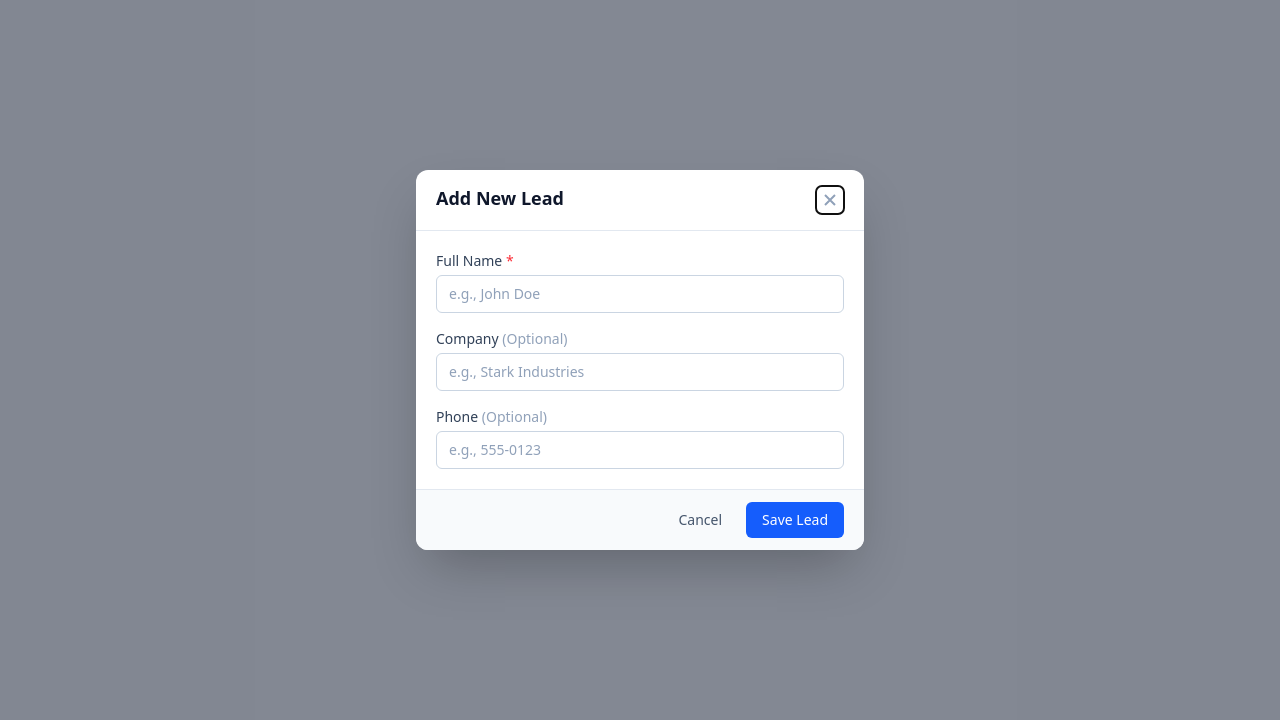
Scenario: AddLeadDialog › keeps the form and shows the server message when saving fails
Type "Ada" into the field with placeholder "e.g., John Doe" at (640, 294), box [436, 275, 844, 313]
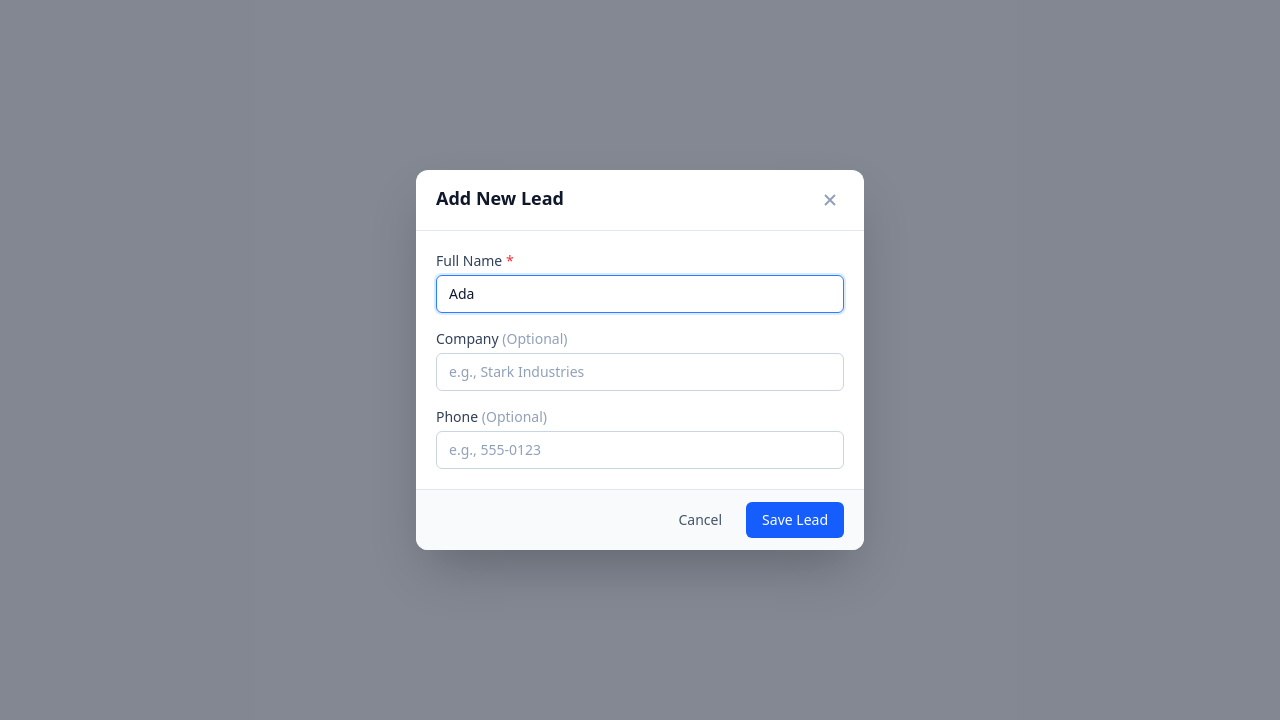
Click the button "Save Lead" at (795, 520), box [746, 502, 844, 538]
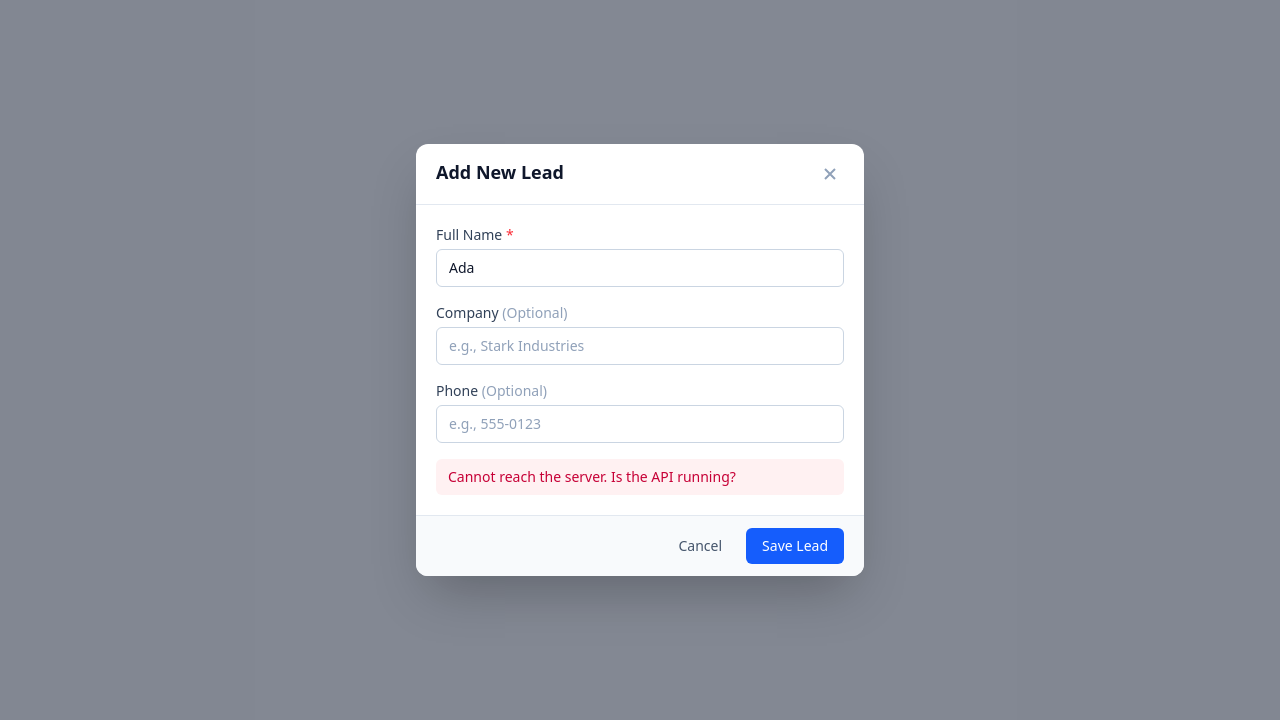
Expected: the button "Save Lead" is enabled, [746, 528, 844, 564]
Expected: the text "Cannot reach the server. Is the API running?" is shown, [436, 459, 844, 495]
